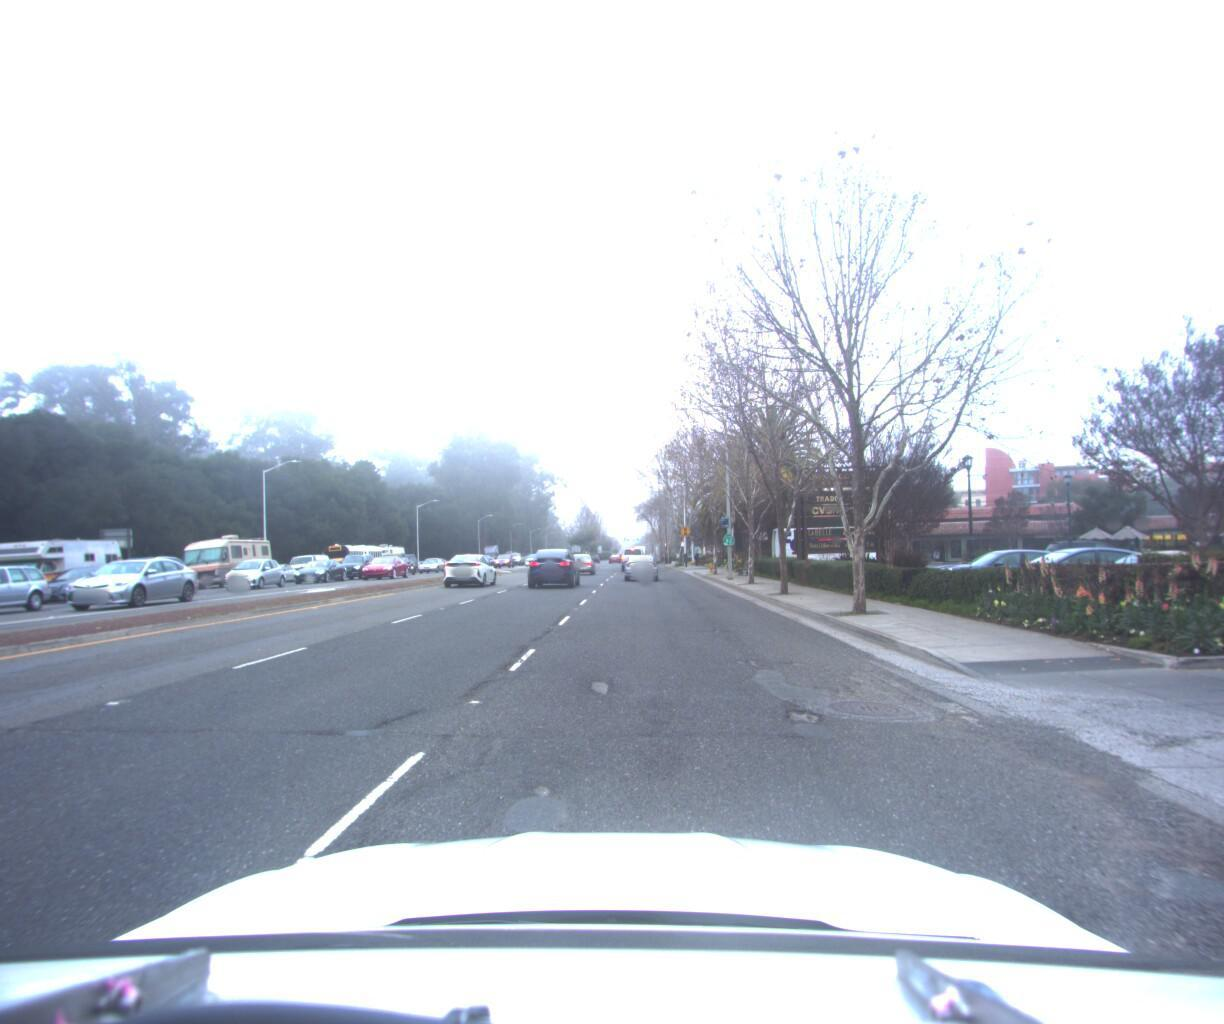bus: (312, 537, 386, 578)
car: (1038, 538, 1224, 614), (984, 539, 1184, 605), (33, 552, 208, 613), (925, 543, 1105, 594), (24, 560, 150, 603), (0, 561, 60, 623), (522, 544, 582, 588), (216, 553, 290, 588), (434, 549, 502, 586), (283, 548, 335, 581), (291, 553, 352, 580), (329, 549, 381, 577), (363, 549, 416, 576), (255, 558, 303, 584), (621, 548, 660, 579), (563, 542, 596, 570), (617, 542, 645, 566), (417, 554, 448, 573)
other_vehicle: (0, 533, 135, 613), (171, 528, 279, 593), (361, 537, 409, 575)
truck: (767, 517, 888, 568)
